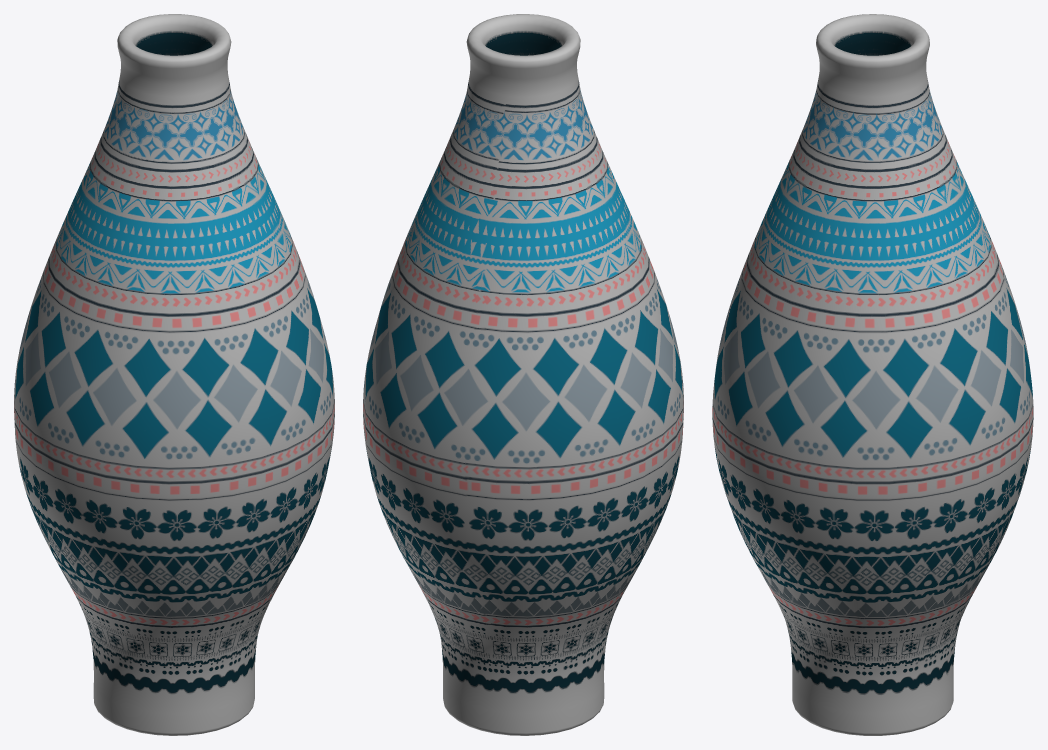
File: flowervase1.glb
3 views of the same model, side by side, from view 1: azimuth 30°, elevation 25°; view 2: azimuth 150°, elevation 25°; view 3: azimuth 270°, elevation 25° (orthographic).
Parts seen in each view (by area): view 1: Flower_vase; view 2: Flower_vase; view 3: Flower_vase.
Boxes of the visible parts, box(x1,y1,x2,y2) form: Flower_vase: box(14, 14, 334, 735); Flower_vase: box(363, 14, 683, 735); Flower_vase: box(712, 14, 1033, 735).
Bounding box in the file's own units: 0.2089 × 0.4799 × 0.2091.
Materials: 1 (1 with a texture image).
